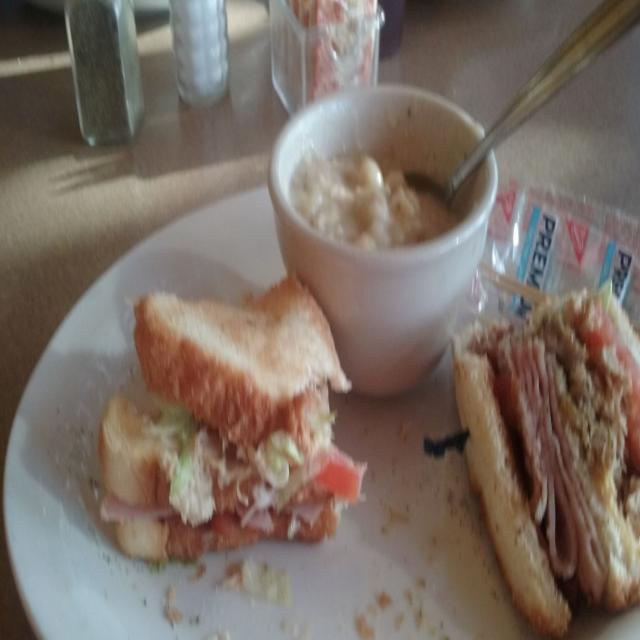Sandwich: (93, 281, 639, 634)
